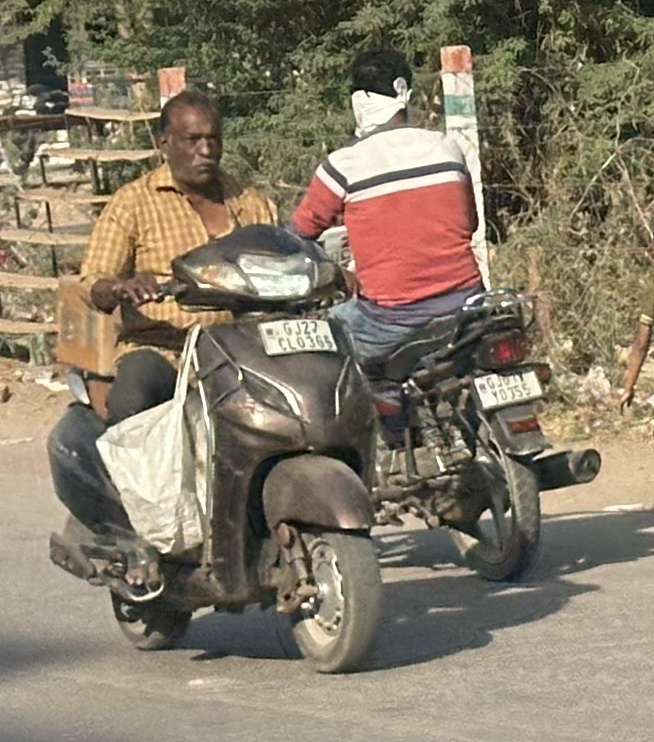BikeWithRider: (35, 80, 403, 681), (269, 37, 610, 600)
NoHelmet: (144, 81, 239, 191), (333, 40, 429, 143)
